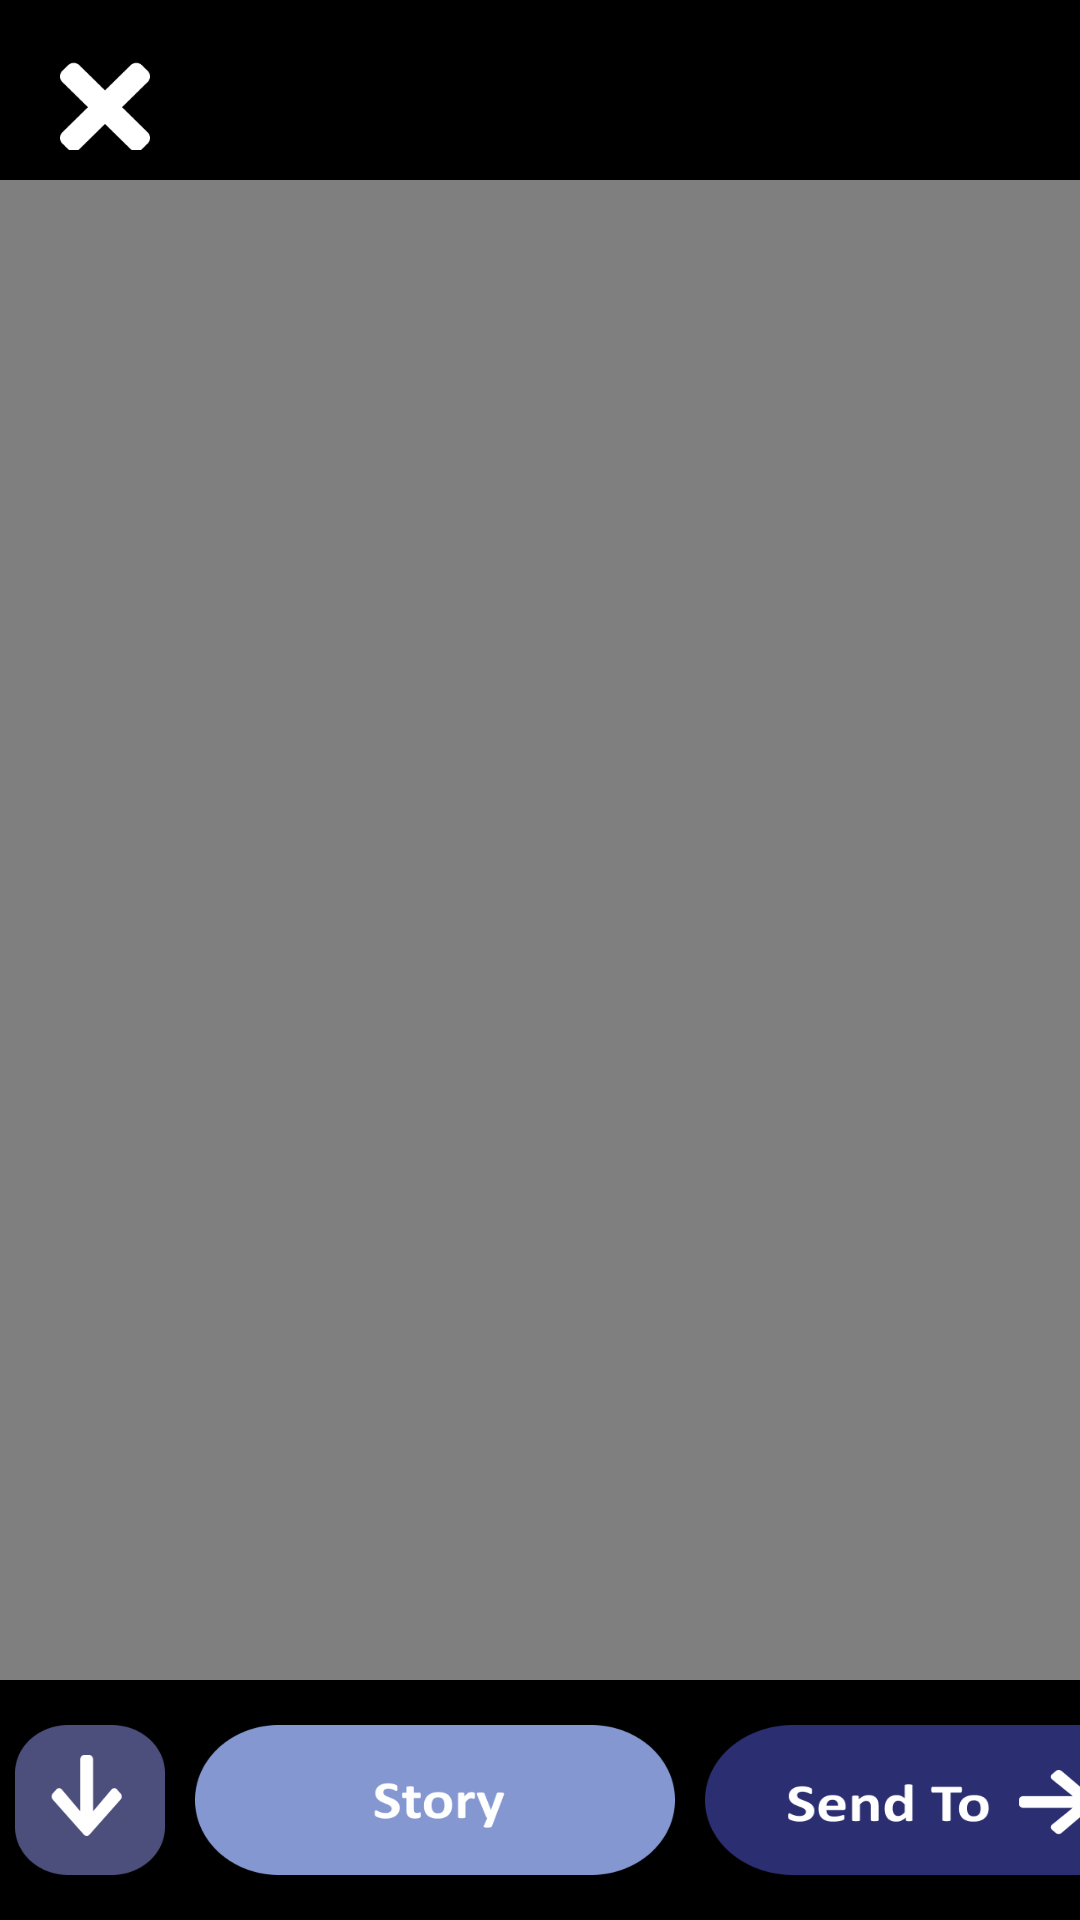

Screen size 1080w x 1920h. Icon name, then its center in pixels as point (x, y):
back cross: point (105, 106)
